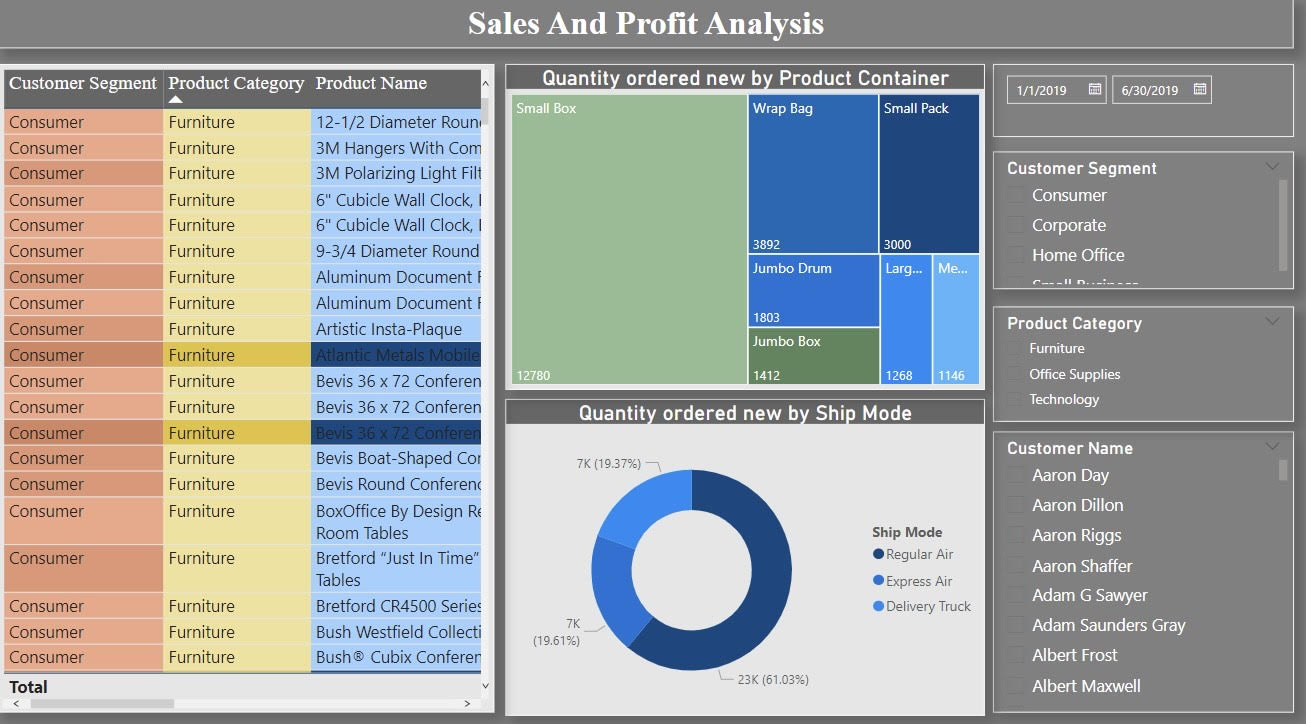

The dashboard page shown, as its layout file describes it:
{"tool":"powerbi","page":{"name":"Sales Analysis2","canvas":[1280,720],"ordinal":1},"visuals":[{"type":"textbox","box":[13.1,13.1,1251.3,49],"z":0},{"type":"slicer","fields":{"Values":["Customer.Customer Segment"]},"box":[974.3,161.2,290.1,132.5],"z":1000},{"type":"slicer","fields":{"Values":["Customer.Customer Name"]},"box":[974.3,432.2,290.1,271],"z":2000},{"type":"slicer","fields":{"Values":["Product.Product Category"]},"box":[974.3,311.6,290.1,111],"z":3000},{"type":"slicer","fields":{"Values":["Product.Order Date"]},"box":[974.3,77.6,290.1,70.4],"z":4000},{"type":"donutChart","fields":{"Category":["Customer.Ship Mode"],"Y":["Sales data.Quantity ordered new"]},"box":[503.9,400,462.1,305.7],"z":5000},{"type":"treemap","fields":{"Values":["Sales data.Quantity ordered new"],"Group":["Product.Product Container"]},"box":[503.9,77.6,462.1,314],"z":6000},{"type":"tableEx","fields":{"Values":["Customer.Customer Segment","Sales data.Product Category","Sales data.Product Name","Product.Order Date.Variation.Date Hierarchy.Month","Sales data.Sales","Sales data.Profit","Sales data.Quantity ordered new"]},"box":[13.1,77.6,480,625.7],"z":7000}]}

Visuals, with their boxes in screenshot pixels (x1, y1, x2, y2), scaled from the page's 1280x720 canvas onto the 1306x724 screenshot:
textbox: [13,13,1290,62]
slicer - Customer.Customer Segment: [994,162,1290,295]
slicer - Customer.Customer Name: [994,435,1290,707]
slicer - Product.Product Category: [994,313,1290,425]
slicer - Product.Order Date: [994,78,1290,149]
donutChart - Customer.Ship Mode x Sales data.Quantity ordered new: [514,402,986,710]
treemap - Sales data.Quantity ordered new x Product.Product Container: [514,78,986,394]
tableEx - Customer.Customer Segment x Sales data.Product Category: [13,78,503,707]
